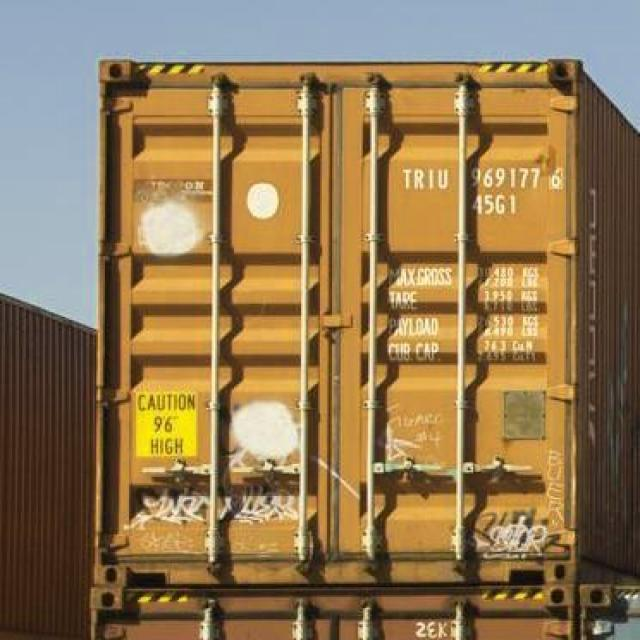ISO: (472, 194, 520, 217)
container_number: (400, 164, 566, 190)
